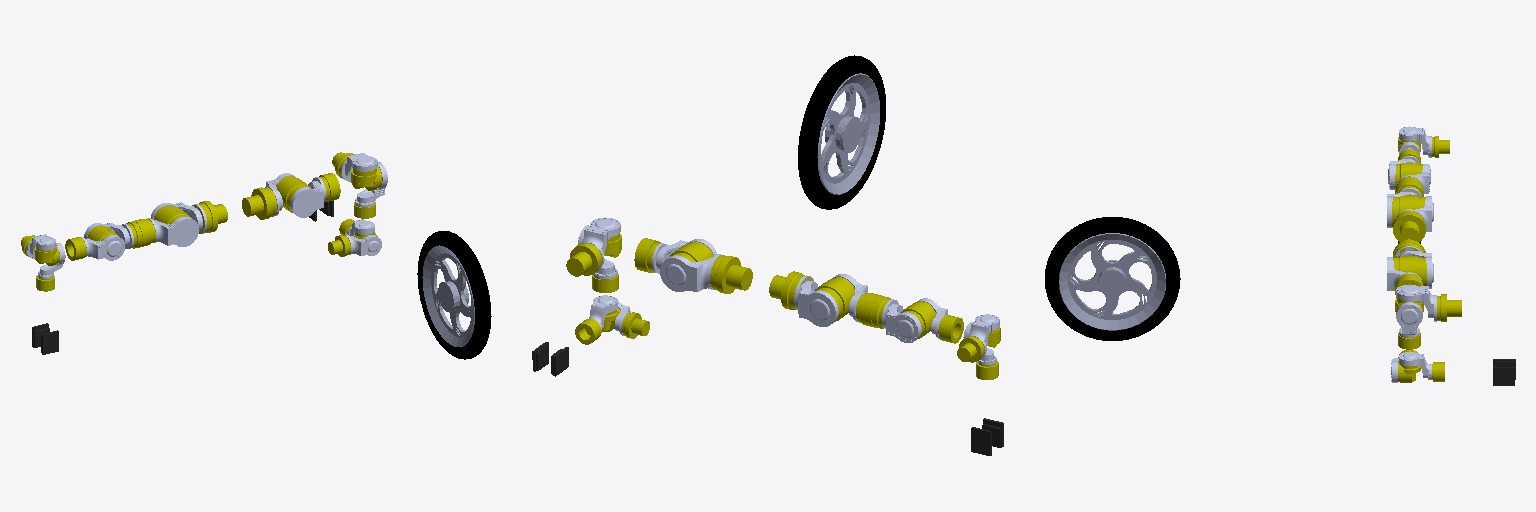
robot.urdf — Krang:
<?xml version="1.0" ?>
<!-- @file Krang.urdf -->
<!-- @author [author] -->
<!-- @date May 10, 2013 -->
<!-- @brief This file contains the .urdf definition for Krang. -->
<!-- NOTE: The center of mass locations are taken from the MassTable by summing up the -->
<!-- individual part values for the sections (which correspond to nodes here). -->
<!-- TODO: Set the center of mass locations -->
<!-- TODO: Set the correct masses. Note that the dae models have the brackets divided in two and -->
<!-- connected to the middle motor for which we do not have measurements. -->
<!-- NOTE: The bounding box values are taken by finding the min and max values of the dae files. -->

<robot name="Krang">

	<!-- Links -->
	<link name = "world" />

	<link name = "LWheel">
    <inertial>
      <mass value="4.66"/>
      <inertia ixx="0.102019" ixy="2.45462e-05" ixz="0.00713022" iyy="0.0832724" iyz="-0.00131733" izz="0.086493"/>
      <origin xyz="0 0 0"/>
    </inertial>
		<visual> <geometry> <mesh filename="../files/scenes/Base/oldwheel.dae" /> </geometry> </visual>
		<collision> <geometry> <mesh filename="../files/scenes/Base/oldwheel.dae" /> </geometry> </collision>
	</link>

	<!-- <link name = "RWheel">
    <inertial>
      <mass value="4.66"/>
      <inertia ixx="0.102019" ixy="2.45462e-05" ixz="0.00713022" iyy="0.0832724" iyz="-0.00131733" izz="0.086493"/>
      <origin xyz="0 0 0"/>
    </inertial>
		<visual> <geometry> <mesh filename="../files/scenes/Base/oldwheel.dae" /> </geometry> </visual>
		<collision> <geometry> <mesh filename="../files/scenes/Base/oldwheel.dae" /> </geometry> </collision>
	</link> -->

	<link name = "Base">
    <inertial>
      <mass value="81.856"/>
      <inertia ixx="0.102019" ixy="2.45462e-05" ixz="0.00713022" iyy="0.0832724" iyz="-0.00131733" izz="0.086493"/>
      <origin xyz="-0.00336451 0.107572 -0.00636184"/>
    </inertial>
		<visual> <geometry> <mesh filename="../files/scenes/base.dae" /> </geometry> </visual>
		<collision> <origin xyz="0.00225 0.2097395 0.006300"/> <geometry> <box size="0.7165 0.71048 0.32860"/> </geometry> </collision>
	</link>

	<link name = "Spine">
    <inertial>
      <mass value="10.302"/>
      <inertia ixx="0.102019" ixy="2.45462e-05" ixz="0.00713022" iyy="0.0832724" iyz="-0.00131733" izz="0.086493"/>
			<!-- an offset of -0.02937 is added due to bad dae file and to align with base com -->
      <origin xyz="-0.02937 0.285314 0.0974926"/>
    </inertial>
		<visual> <geometry> <mesh filename="../files/scenes/spine.dae" /> </geometry> </visual>
		<collision> <origin xyz="-0.026 0.230150 0.053887"/> <geometry> <box size="0.2340 0.59430 0.24097"/> </geometry> </collision>
	</link>

	<link name = "Bracket">
    <inertial>
      <mass value="10.17"/>
      <inertia ixx="0.102019" ixy="2.45462e-05" ixz="0.00713022" iyy="0.0832724" iyz="-0.00131733" izz="0.086493"/>
			<!-- offseted with 0.0827 because the origin of the bracket is at the bottom -->
      <origin xyz="0 0.080606 -0.00314267"/>
    </inertial>
		<visual> <geometry> <mesh filename="../files/scenes/bracket.dae" /> </geometry> </visual>
		<collision> <origin xyz="0.0012875 0.0582 -0.0280530"/> <geometry> <box size="0.2815 0.23 0.22611"/> </geometry> </collision>
	</link>

	<link name = "Kinect">
    <inertial>
      <mass value="0.705"/>
      <inertia ixx="0.102019" ixy="2.45462e-05" ixz="0.00713022" iyy="0.0832724" iyz="-0.00131733" izz="0.086493"/>
      <origin xyz="0.0 -0.04 -0.028"/>
    </inertial>
		<visual> <geometry> <mesh filename="../files/scenes/Kinect/Kinect.dae" /> </geometry> </visual>
		<collision> <origin xyz="0.0 -0.0251 -0.0185"/> <geometry> <box size="0.28 0.07 0.063"/> </geometry> </collision>
	</link>

	<link name = "L1">
    <inertial>
      <mass value="3.836"/>
      <inertia ixx="0.102019" ixy="2.45462e-05" ixz="0.00713022" iyy="0.0832724" iyz="-0.00131733" izz="0.086493"/>
      <origin xyz="0.0063626 -0.00725706 0"/>
    </inertial>
		<visual> <geometry> <mesh filename="../files/scenes/Schunk/L1.dae" /> </geometry> </visual>
		<collision> <origin xyz="0.015 -0.080866 0.0"/> <geometry> <box size="0.16 0.29367 0.13188"/> </geometry> </collision>
	</link>

	<link name = "L2">
    <inertial>
      <mass value="2.385"/>
      <inertia ixx="0.102019" ixy="2.45462e-05" ixz="0.00713022" iyy="0.0832724" iyz="-0.00131733" izz="0.086493"/>
      <origin xyz="0.0101136 -0.15332 0"/>
    </inertial>
		<visual> <geometry> <mesh filename="../files/scenes/Schunk/L2.dae" /> </geometry> </visual>
		<collision> <origin xyz="0.017042 -0.058309 0.0"/> <geometry> <box size="0.14591 0.24658 0.13"/> </geometry> </collision>
	</link>

	<link name = "L3">
    <inertial>
      <mass value="2.306"/>
      <inertia ixx="0.102019" ixy="2.45462e-05" ixz="0.00713022" iyy="0.0832724" iyz="-0.00131733" izz="0.086493"/>
      <origin xyz="0.0071222 -0.00803823 0"/>
    </inertial>
		<visual> <geometry> <mesh filename="../files/scenes/Schunk/L3.dae" /> </geometry> </visual>
		<collision> <origin xyz="0.014000 -0.075113 0.0"/> <geometry> <box size="0.13800 0.26217 0.11189"/> </geometry> </collision>
	</link>

	<link name = "L4">
    <inertial>
      <mass value="1.477"/>
      <inertia ixx="0.102019" ixy="2.45462e-05" ixz="0.00713022" iyy="0.0832724" iyz="-0.00131733" izz="0.086493"/>
      <origin xyz="0.0115211 -0.1255 0"/>
    </inertial>
		<visual> <geometry> <mesh filename="../files/scenes/Schunk/L4.dae" /> </geometry> </visual>
		<collision> <origin xyz="0.018200 -0.052050 0.0"/> <geometry> <box size="0.12960 0.2141 0.11"/> </geometry> </collision>
	</link>

	<link name = "L5">
    <inertial>
      <mass value="1.369"/>
      <inertia ixx="0.102019" ixy="2.45462e-05" ixz="0.00713022" iyy="0.0832724" iyz="-0.00131733" izz="0.086493"/>
      <origin xyz="0.00705037 -0.00747172 0"/>
    </inertial>
		<visual> <geometry> <mesh filename="../files/scenes/Schunk/L5.dae" /> </geometry> </visual>
		<collision> <origin xyz="0.0145115 -0.0571105 0.0000425"/> <geometry> <box size="0.117977 0.204179 0.089915"/> </geometry> </collision>
	</link>

	<link name = "L6">
    <inertial>
      <mass value="1.47"/>
      <inertia ixx="0.102019" ixy="2.45462e-05" ixz="0.00713022" iyy="0.0832724" iyz="-0.00131733" izz="0.086493"/>
      <origin xyz="0.0105523 -0.117163 0"/>
    </inertial>
		<visual> <geometry> <mesh filename="../files/scenes/Schunk/L6.dae" /> </geometry> </visual>
		<collision> <origin xyz="0.0175015 -0.0481615 0.0"/> <geometry> <box size="0.111977 0.185277 0.089"/> </geometry> </collision>
	</link>

	<link name = "lGripper">
    <inertial>
      <mass value="2.3"/>
      <inertia ixx="0.102019" ixy="2.45462e-05" ixz="0.00713022" iyy="0.0832724" iyz="-0.00131733" izz="0.086493"/>
			<!-- An addition of 4.05 cms from the end of Schunk gripper to space between two halves of ft -->
      <origin xyz="0 0 0.1055"/>
    </inertial>
		<visual> <geometry> <mesh filename="../files/scenes/Schunk/L7.dae" /> </geometry> </visual>
		<collision> <origin xyz="0.0 -0.0 0.02615" rpy="0.0 0.0 1.5708"/> <geometry> <box size="0.08 0.112 0.2025"/> </geometry> </collision>
	</link>

	<link name = "lgPlate1">
    <inertial>
      <inertia ixx="0.102019" ixy="2.45462e-05" ixz="0.00713022" iyy="0.0832724" iyz="-0.00131733" izz="0.086493"/>
			<mass value="0.0001"/> </inertial>
		<visual> <geometry> <mesh filename="../files/scenes/Schunk/gripperPlate.dae" /> </geometry> </visual>
	</link>

	<link name = "lgPlate2">
    <inertial>
      <inertia ixx="0.102019" ixy="2.45462e-05" ixz="0.00713022" iyy="0.0832724" iyz="-0.00131733" izz="0.086493"/>
			<mass value="0.0001"/> </inertial>
		<visual> <geometry> <mesh filename="../files/scenes/Schunk/gripperPlate.dae" /> </geometry> </visual>
	</link>

	<link name = "R1">
    <inertial>
      <mass value="3.836"/>
      <inertia ixx="0.102019" ixy="2.45462e-05" ixz="0.00713022" iyy="0.0832724" iyz="-0.00131733" izz="0.086493"/>
      <origin xyz="0.0063626 -0.00725706 0"/>
    </inertial>
		<visual> <geometry> <mesh filename="../files/scenes/Schunk/L1.dae" /> </geometry> </visual>
		<collision> <origin xyz="0.015 -0.080866 0.0"/> <geometry> <box size="0.16 0.29367 0.13188"/> </geometry> </collision>
	</link>

	<link name = "R2">
    <inertial>
      <mass value="2.385"/>
      <inertia ixx="0.102019" ixy="2.45462e-05" ixz="0.00713022" iyy="0.0832724" iyz="-0.00131733" izz="0.086493"/>
      <origin xyz="0.0101136 -0.15332 0"/>
    </inertial>
		<visual> <geometry> <mesh filename="../files/scenes/Schunk/L2.dae" /> </geometry> </visual>
		<collision> <origin xyz="0.017042 -0.058309 0.0"/> <geometry> <box size="0.14591 0.24658 0.13"/> </geometry> </collision>
	</link>

	<link name = "R3">
    <inertial>
      <mass value="2.306"/>
      <inertia ixx="0.102019" ixy="2.45462e-05" ixz="0.00713022" iyy="0.0832724" iyz="-0.00131733" izz="0.086493"/>
      <origin xyz="0.0071222 -0.00803823 0"/>
    </inertial>
		<visual> <geometry> <mesh filename="../files/scenes/Schunk/L3.dae" /> </geometry> </visual>
		<collision> <origin xyz="0.014000 -0.075113 0.0"/> <geometry> <box size="0.13800 0.26217 0.11189"/> </geometry> </collision>
	</link>

	<link name = "R4">
    <inertial>
      <mass value="1.477"/>
      <inertia ixx="0.102019" ixy="2.45462e-05" ixz="0.00713022" iyy="0.0832724" iyz="-0.00131733" izz="0.086493"/>
      <origin xyz="0.0115211 -0.1255 0"/>
    </inertial>
		<visual> <geometry> <mesh filename="../files/scenes/Schunk/L4.dae" /> </geometry> </visual>
		<collision> <origin xyz="0.018200 -0.052050 0.0"/> <geometry> <box size="0.12960 0.2141 0.11"/> </geometry> </collision>
	</link>

	<link name = "R5">
    <inertial>
      <mass value="1.369"/>
      <inertia ixx="0.102019" ixy="2.45462e-05" ixz="0.00713022" iyy="0.0832724" iyz="-0.00131733" izz="0.086493"/>
      <origin xyz="0.00705037 -0.00747172 0"/>
    </inertial>
		<visual> <geometry> <mesh filename="../files/scenes/Schunk/L5.dae" /> </geometry> </visual>
		<collision> <origin xyz="0.0145115 -0.0571105 0.0000425"/> <geometry> <box size="0.117977 0.204179 0.089915"/> </geometry> </collision>
	</link>

	<link name = "R6">
    <inertial>
      <mass value="1.47"/>
      <inertia ixx="0.102019" ixy="2.45462e-05" ixz="0.00713022" iyy="0.0832724" iyz="-0.00131733" izz="0.086493"/>
      <origin xyz="0.0105523 -0.117163 0"/>
    </inertial>
		<visual> <geometry> <mesh filename="../files/scenes/Schunk/L6.dae" /> </geometry> </visual>
		<collision> <origin xyz="0.0175015 -0.0481615 0.0"/> <geometry> <box size="0.111977 0.185277 0.089"/> </geometry> </collision>
	</link>

	<link name = "rGripper">
    <inertial>
      <mass value="2.3"/>
      <inertia ixx="0.102019" ixy="2.45462e-05" ixz="0.00713022" iyy="0.0832724" iyz="-0.00131733" izz="0.086493"/>
			<!-- An addition of 4.05 cms from the end of Schunk gripper to space between two halves of ft -->
      <origin xyz="0 0 0.1055"/>
    </inertial>
		<visual> <geometry> <mesh filename="../files/scenes/Schunk/L7.dae" /> </geometry> </visual>
		<collision> <origin xyz="0.0 -0.0 0.02615" rpy="0.0 0.0 1.5708"/> <geometry> <box size="0.08 0.112 0.2025"/> </geometry> </collision>
	</link>

	<link name = "rgPlate1">
    <inertial>
      <inertia ixx="0.102019" ixy="2.45462e-05" ixz="0.00713022" iyy="0.0832724" iyz="-0.00131733" izz="0.086493"/>
			<mass value="0.0001"/> </inertial>
		<visual> <geometry> <mesh filename="../files/scenes/Schunk/gripperPlate.dae" /> </geometry> </visual>
	</link>

	<link name = "rgPlate2">
    <inertial>
      <inertia ixx="0.102019" ixy="2.45462e-05" ixz="0.00713022" iyy="0.0832724" iyz="-0.00131733" izz="0.086493"/>
			<mass value="0.0001"/> </inertial>
		<visual> <geometry> <mesh filename="../files/scenes/Schunk/gripperPlate.dae" /> </geometry> </visual>
	</link>


	<!-- ======================================================================================================== -->
	<!-- ============================================ Joints ==================================================== -->
	<!-- ======================================================================================================== -->
<!-- Creating two arbitrary joints to fix the wheels in place - parent is world, child is JWheel -->

	<joint name="FixedJLWheel" type="fixed"> <parent link="world" /> <child link="LWheel" />
		<origin xyz = "-0.354 0.0 0" rpy="0 0 0" />
		<axis xyz="1 0 0" /> <limit effort="1000" lower="-3.1416" upper="3.1416" velocity="0.1" />
	</joint>

	<!-- <joint name="FixedJRWheel" type="fixed"> <parent link="world" /> <child link="RWheel" />
		<origin xyz = "0.361 0.0 0" rpy="0 0 0" />
		<axis xyz="1 0 0" /> <limit effort="1000" lower="-3.1416" upper="3.1416" velocity="0.1" />
	</joint> -->

	<joint name="JLWheel" type="revolute"> <parent link="LWheel" /> <child link="Base" />
		<origin xyz = "-0.354 0.0 0" rpy="0 0 0" />
		<axis xyz="1 0 0" /> <limit effort="1000" lower="-3.1416" upper="3.1416" velocity="0.1" />
	</joint>

	<!-- <joint name="JRWheel" type="revolute"> <parent link="Base" /> <child link="RWheel" />
		<origin xyz = "0.361 0.0 0" rpy="0 0 0" />
		<axis xyz="1 0 0" /> <limit effort="1000" lower="-3.1416" upper="3.1416" velocity="0.1" />
	</joint> -->

	<joint name="JWaist" type="revolute"> <parent link="Base" /> <child link="Spine" />
		<origin xyz = "0.026 0.499 -0.091" rpy="0 0 0" />
		<axis xyz="-1 0 0" /> <limit effort="1000" lower="0" upper="2.7" velocity="0.1" />
	</joint>

	<joint name="JTorso" type="revolute"> <parent link="Spine" /> <child link="Bracket" />
		<origin xyz = "-0.0285 0.584 0.1088" rpy="0 3.1416 0" />
		<axis xyz="0 -1 0" /> <limit effort="1000" lower="-0.8" upper="0.8" velocity="0.1" />
	</joint>

	<joint name="JKinect" type="revolute"> <parent link="Bracket" /> <child link="Kinect" />
		<origin xyz = "-0.001 0.1805 -0.1120" rpy="3.1416 0 0" />
		<axis xyz="1 0 0" /> <limit effort="1000" lower="-3.1416" upper="3.1416" velocity="0.1" />
	</joint>

	<joint name="LJ1" type="revolute"> <parent link="Bracket" /> <child link="L1" />
		<origin xyz = "0.2823 0.0845 0" rpy="0 3.1416 -1.5708" />
		<axis xyz="0 -1 0" /> <limit effort="1000" lower="-3.1416" upper="3.1416" velocity="0.1" />
	</joint>

	<joint name="LJ2" type="revolute"> <parent link="L1" /> <child link="L2" />
		<origin xyz="0 0.0 0" rpy="3.14 3.14 0" />
		<axis xyz="-1 0 0" /> <limit effort="1000" lower="-2.094" upper="2.094" velocity="0.1" />
	</joint>

	<joint name="LJ3" type="revolute"> <parent link="L2" /> <child link="L3" />
		<origin xyz="0 -0.328 0" rpy="-3.1416 -3.1416 0" />
		<axis xyz="0 -1 0" /> <limit effort="1000" lower="-4.7124" upper="4.7124" velocity="0.1" />
	</joint>

	<joint name="LJ4" type="revolute"> <parent link="L3" /> <child link="L4" />
		<origin xyz="0 0 0" rpy="3.1416 3.1416 0" />
		<axis xyz="-1 0 0" /> <limit effort="1000" lower="-2.094" upper="2.094" velocity="0.1" />
	</joint>

	<joint name="LJ5" type="revolute"> <parent link="L4" /> <child link="L5" />
		<origin xyz="0 -0.2765 0" rpy="4.7124 4.7124 0" />
		<axis xyz="0 -1 0" /> <limit effort="1000" lower="-4.7124" upper="4.7124" velocity="0.1" />
	</joint>

	<joint name="LJ6" type="revolute"> <parent link="L5" /> <child link="L6" />
		<origin xyz="0 0 0" rpy="4.7124 4.7124 0" />
		<axis xyz="-1 0 0" /> <limit effort="1000" lower="-2.094" upper="2.094" velocity="0.1" />
	</joint>

	<!-- For some reason, I had to negate the axis to make sure the motor turns like the others -->
	<joint name="LJFT" type="revolute"> <parent link="L6" /> <child link="lGripper" />
		<origin xyz="0 -0.200 0" rpy="1.5708 4.7124 0" />
		<axis xyz="0 0 -1" /> <limit effort="1000" lower="-4.7124" upper="4.7124" velocity="0.1" />
	</joint>

	<joint name="LMotorPlate1" type="fixed"> <parent link="lGripper" /> <child link="lgPlate1" />
		<origin xyz="-0.045 0.0 0.127" rpy="3.1416 0 0" />
		<axis xyz="1 0 0" /> <limit effort="1000" lower="0.0" upper="0.022" velocity="0.1" />
	</joint>

	<joint name="LMotorPlate2" type="fixed"> <parent link="lGripper" /> <child link="lgPlate2" />
		<origin xyz="0.045 0.000 0.127" rpy="3.1416 0 3.1416" />
		<axis xyz="1 0 0" /> <limit effort="1000" lower="0.0" upper="0.022" velocity="0.1" />
	</joint>

	<!-- Right arm -->

	<joint name="RJ1" type="revolute"> <parent link="Bracket" /> <child link="R1" />
		<origin xyz = "-0.2823 0.0845 0" rpy="0 0 1.5708" />
		<axis xyz="0 -1 0" /> <limit effort="1000" lower="-4.7124" upper="4.7124" velocity="0.1" />
	</joint>

	<joint name="RJ2" type="revolute"> <parent link="R1" /> <child link="R2" />
		<origin xyz="0 0.0 0" rpy="3.14 3.14 0" />
		<axis xyz="-1 0 0" /> <limit effort="1000" lower="-2.094" upper="2.094" velocity="0.1" />
	</joint>

	<joint name="RJ3" type="revolute"> <parent link="R2" /> <child link="R3" />
		<origin xyz="0 -0.328 0" rpy="-4.7124 -4.7124 0" />
		<axis xyz="0 -1 0" /> <limit effort="1000" lower="-4.7124" upper="4.7124" velocity="0.1" />
	</joint>

	<joint name="RJ4" type="revolute"> <parent link="R3" /> <child link="R4" />
		<origin xyz="0 0 0" rpy="4.7124 4.7124 0" />
		<axis xyz="-1 0 0" /> <limit effort="1000" lower="-2.094" upper="2.094" velocity="0.1" />
	</joint>

	<joint name="RJ5" type="revolute"> <parent link="R4" /> <child link="R5" />
		<origin xyz="0 -0.2765 0" rpy="4.7124 4.7124 0" />
		<axis xyz="0 -1 0" /> <limit effort="1000" lower="-4.7124" upper="4.7124" velocity="0.1" />
	</joint>

	<joint name="RJ6" type="revolute"> <parent link="R5" /> <child link="R6" />
		<origin xyz="0 0 0" rpy="4.7124 4.7124 0" />
		<axis xyz="-1 0 0" /> <limit effort="1000" lower="-2.094" upper="2.094" velocity="0.1" />
	</joint>

	<joint name="RJFT" type="revolute"> <parent link="R6" /> <child link="rGripper" />
		<origin xyz="0 -0.200 0" rpy="1.5708 4.7124 0" />
		<axis xyz="0 0 -1" /> <limit effort="1000" lower="-4.7124" upper="4.7124" velocity="0.1" />
	</joint>

	<joint name="RMotorPlate1" type="fixed"> <parent link="rGripper" /> <child link="rgPlate1" />
		<origin xyz="-0.045 0.0 0.127" rpy="3.1416 0 0" />
		<axis xyz="1 0 0" /> <limit effort="1000" lower="0.0" upper="0.022" velocity="0.1" />
	</joint>

	<joint name="RMotorPlate2" type="fixed"> <parent link="rGripper" /> <child link="rgPlate2" />
		<origin xyz="0.045 0.000 0.127" rpy="3.1416 0 3.1416" />
		<axis xyz="1 0 0" /> <limit effort="1000" lower="0.0" upper="0.022" velocity="0.1" />
	</joint>

</robot>

--- What the picture shows (computed from the rendered views, not written in the file) ---
The picture shows the robot from 3 angles, left to right: view 1: azimuth 30°, elevation 25°; view 2: azimuth 150°, elevation 25°; view 3: azimuth 270°, elevation 25°; orthographic projection.
Model Krang with 24 links and 23 joints (18 revolute, 5 fixed), rooted at world, posed all joints at 0.
Visible links, largest first — view 1: LWheel, R2, L2, R1, L1, L4, R3, R5, R4, L3, L5, L6 (+1 smaller); view 2: LWheel, R1, L1, R3, L3, R2, L5, R6, L2, L4, R5, R4 (+2 smaller); view 3: LWheel, L1, R3, R1, R4, L5, R6, L2, R2, L4, L3.
Link boxes in pixels (left/top/right/bottom): LWheel: left=417, top=231, right=491, bottom=359; R2: left=283, top=173, right=340, bottom=217; L2: left=135, top=211, right=198, bottom=247; R1: left=242, top=173, right=305, bottom=219; L1: left=151, top=201, right=227, bottom=233; L4: left=65, top=231, right=124, bottom=260; R3: left=332, top=152, right=377, bottom=186; R5: left=328, top=233, right=381, bottom=256; R4: left=352, top=162, right=387, bottom=218; L3: left=84, top=221, right=142, bottom=248; L5: left=21, top=234, right=56, bottom=262; L6: left=36, top=243, right=65, bottom=291; LWheel: left=798, top=55, right=885, bottom=209; R1: left=660, top=246, right=752, bottom=293; L1: left=769, top=271, right=850, bottom=326; R3: left=566, top=217, right=621, bottom=276; L3: left=871, top=296, right=932, bottom=342; R2: left=634, top=238, right=717, bottom=273; L5: left=957, top=314, right=1000, bottom=362; R6: left=575, top=295, right=618, bottom=344; L2: left=827, top=274, right=881, bottom=327; L4: left=913, top=298, right=963, bottom=343; R5: left=602, top=301, right=649, bottom=338; R4: left=578, top=225, right=620, bottom=292; LWheel: left=1045, top=217, right=1180, bottom=340; L1: left=1393, top=195, right=1433, bottom=241; R3: left=1395, top=284, right=1461, bottom=321; R1: left=1393, top=239, right=1433, bottom=288; R4: left=1396, top=302, right=1423, bottom=349; L5: left=1398, top=126, right=1449, bottom=157; R6: left=1399, top=351, right=1444, bottom=381; L2: left=1387, top=180, right=1423, bottom=227; R2: left=1387, top=256, right=1423, bottom=297; L4: left=1388, top=149, right=1420, bottom=189; L3: left=1396, top=163, right=1430, bottom=193.
Size in the robot's own frame: 1.63 by 1.85 by 0.6912 metres.
17 mesh visuals loaded from 13 distinct referenced files (8 Collada DAE); not drawn: 3 (reference not matched to a file when rendering), 3 (file found but could not be loaded).